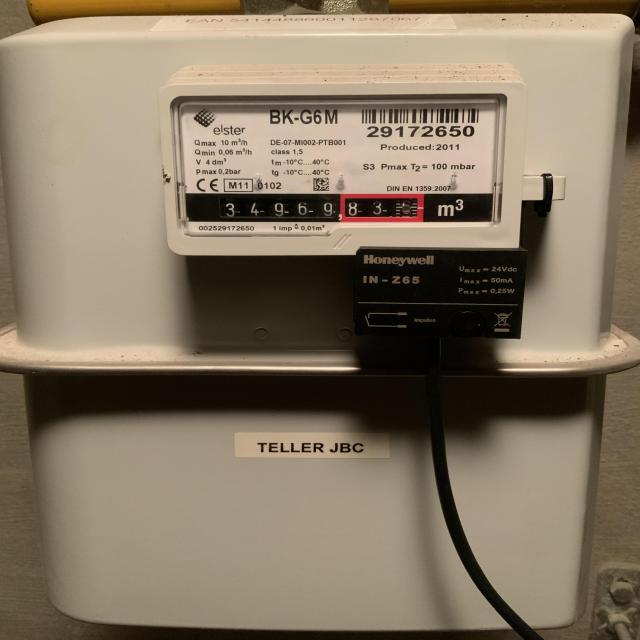gaz_meter: (168, 86, 510, 226)
indication: (211, 189, 424, 224)
